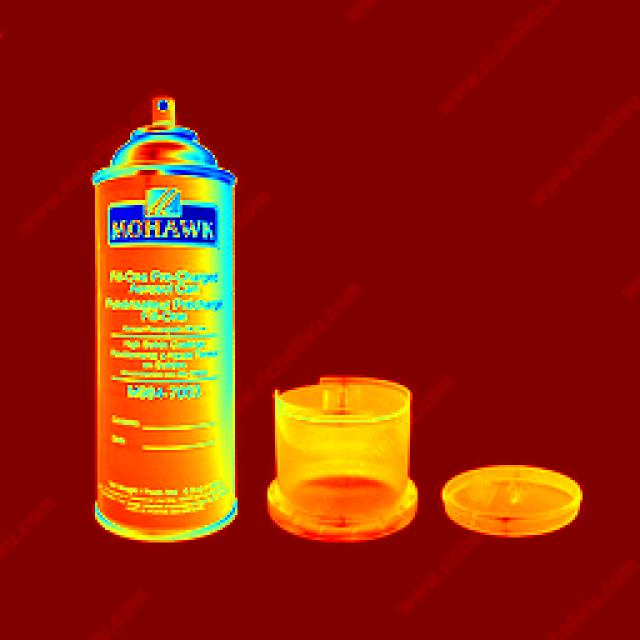Aerosol Cans: (87, 85, 250, 562)
